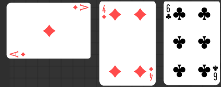4D: (148, 66, 155, 83)
AD: (72, 4, 90, 13), (9, 50, 27, 59)
